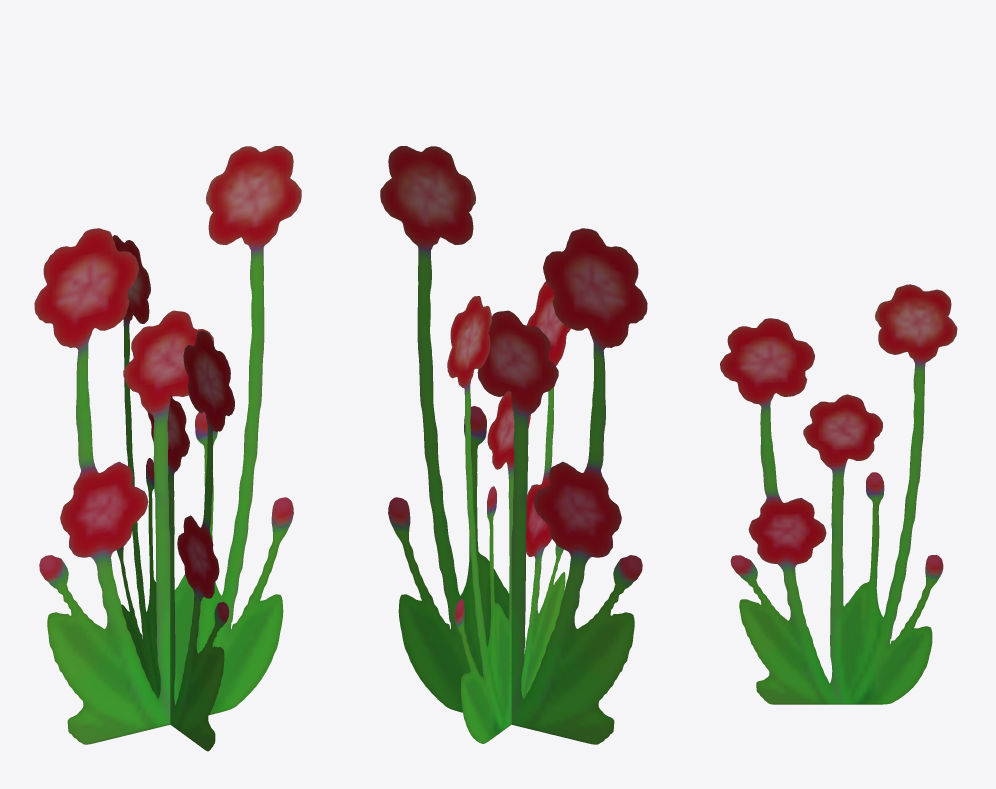
File: Flower02_a01.FBX
3 renders of one model, left to right at view 1: azimuth 30°, elevation 25°; view 2: azimuth 150°, elevation 25°; view 3: azimuth 270°, elevation 25°, orthographic. The views are drawn at different scales.
Visible parts, largest first — view 1: Flower02_a01; view 2: Flower02_a01; view 3: Flower02_a01.
Boxes of the visible parts, left/top/right/bottom form: Flower02_a01: left=34, top=146, right=301, bottom=751; Flower02_a01: left=380, top=146, right=647, bottom=744; Flower02_a01: left=720, top=284, right=957, bottom=704.
Size of the model in its own units: 39.49 by 81.27 by 33.84.
Materials: 1 (1 with a texture image).
